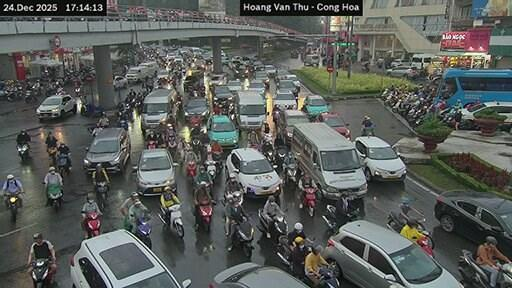motorbike: (457, 251, 489, 287), (258, 207, 287, 239), (157, 203, 182, 237), (415, 216, 434, 256), (233, 219, 252, 256), (275, 234, 293, 270), (32, 257, 53, 286), (134, 212, 150, 247), (322, 203, 341, 229), (317, 264, 338, 287), (416, 230, 434, 256), (387, 211, 405, 232), (198, 201, 211, 230), (303, 187, 316, 216), (6, 193, 19, 221), (85, 211, 99, 237), (96, 180, 108, 210), (387, 211, 403, 232), (496, 264, 511, 286), (48, 184, 60, 211), (274, 145, 287, 167), (284, 162, 297, 183), (204, 157, 216, 179), (259, 142, 272, 162), (221, 190, 242, 202), (57, 153, 67, 175), (166, 135, 176, 156), (16, 144, 28, 161), (211, 151, 221, 171), (186, 161, 195, 181), (192, 136, 201, 156), (413, 215, 425, 229), (48, 148, 56, 166), (189, 116, 201, 127), (25, 90, 35, 103), (348, 208, 358, 220), (361, 126, 374, 135), (118, 118, 127, 130), (306, 238, 313, 251), (147, 139, 156, 148), (361, 66, 368, 72), (304, 279, 310, 283)
